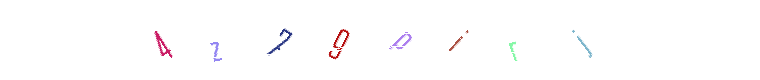4: (206, 0, 286, 80)
7: (249, 0, 329, 80)
9: (283, 0, 363, 80)
I: (340, 0, 420, 80)
J: (472, 0, 552, 80)
P: (299, 0, 379, 80)
R: (457, 0, 537, 80)
Z: (241, 0, 321, 80)
